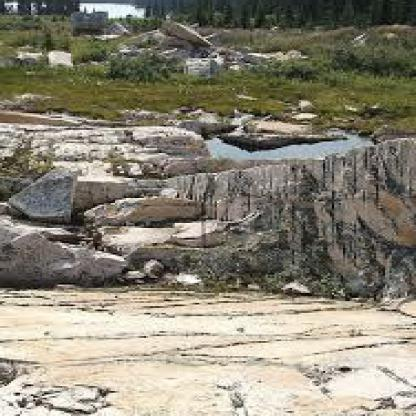Metamorphic_Quartize: (24, 142, 416, 294), (16, 165, 140, 223), (75, 190, 197, 228)
